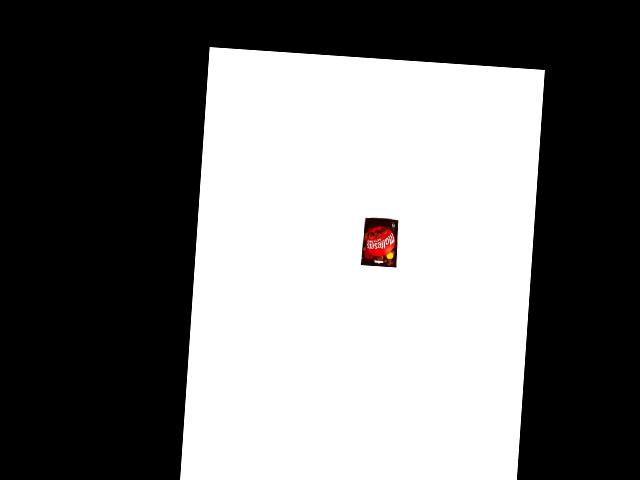chocolate: (360, 216, 399, 268)
